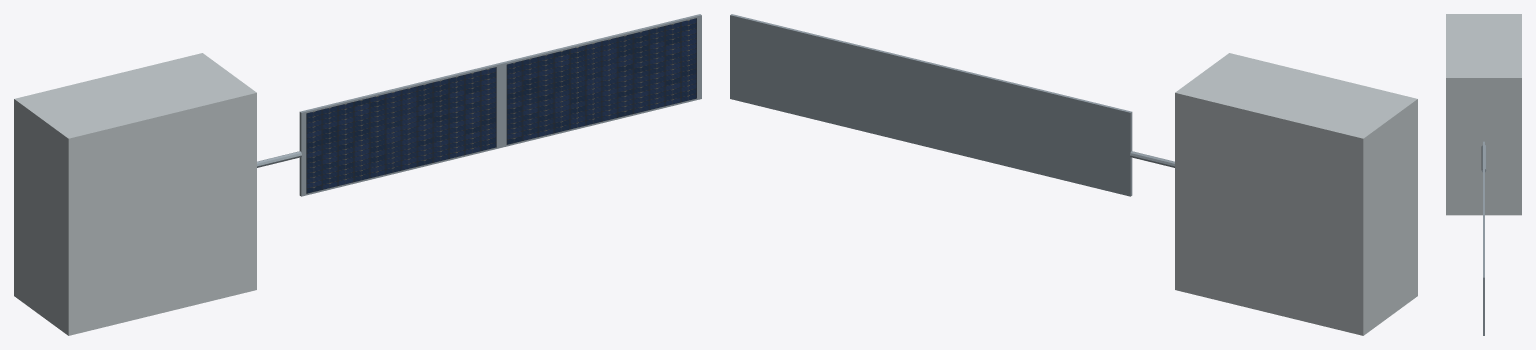
The model's file is ref-geostar-100983.glb.
3 renders of one model, left to right at view 1: azimuth 30°, elevation 25°; view 2: azimuth 150°, elevation 25°; view 3: azimuth 270°, elevation 25°, orthographic. The views are drawn at different scales.
Parts seen in each view (by area): view 1: Spacecraft body, Photovoltaic laminates (×2), Array frame (×2); view 2: Spacecraft body, Array frame (×2); view 3: Spacecraft body, Array frame (×2), Solar array drive.
Part boxes in pixels (left/top/right/bottom): Spacecraft body: left=14, top=53, right=256, bottom=335; Photovoltaic laminates (×2): left=306, top=18, right=696, bottom=193; Array frame (×2): left=299, top=14, right=701, bottom=196; Spacecraft body: left=1175, top=53, right=1417, bottom=335; Array frame (×2): left=730, top=14, right=1132, bottom=196; Spacecraft body: left=1446, top=14, right=1521, bottom=215; Array frame (×2): left=1483, top=141, right=1484, bottom=335; Solar array drive: left=1481, top=145, right=1486, bottom=172.
Bounding box in the file's own units: 7 × 2 × 1.
Materials: 3 (1 with a texture image).
